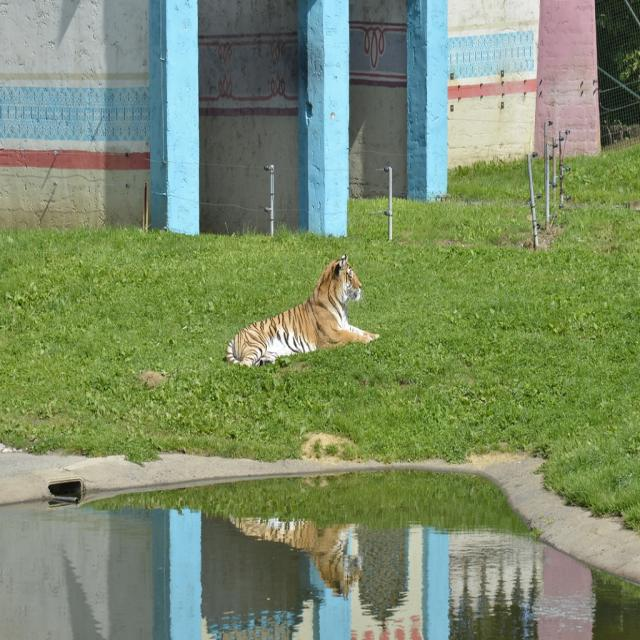Tiger: (224, 251, 380, 370)
